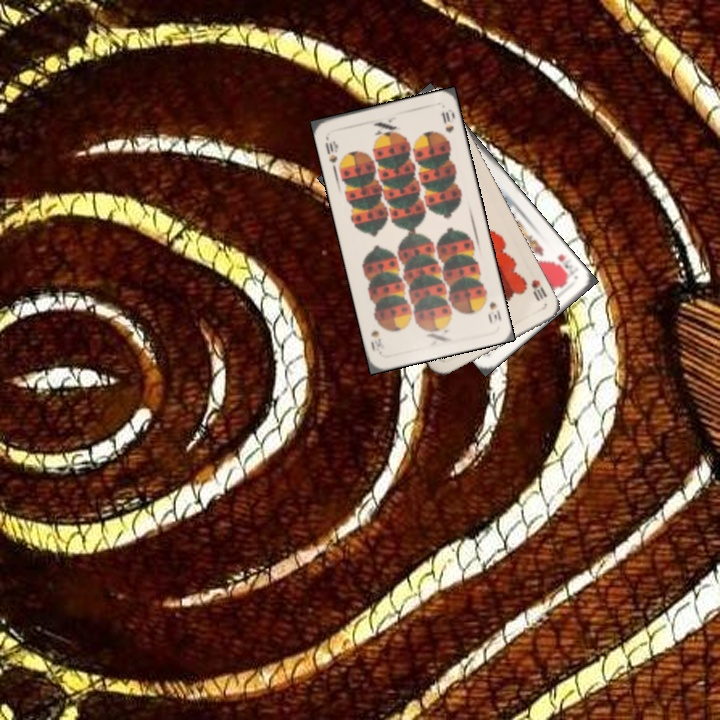H10: (527, 275, 550, 304)
HK: (553, 250, 576, 279)
S10: (479, 288, 504, 328), (321, 132, 340, 166)
